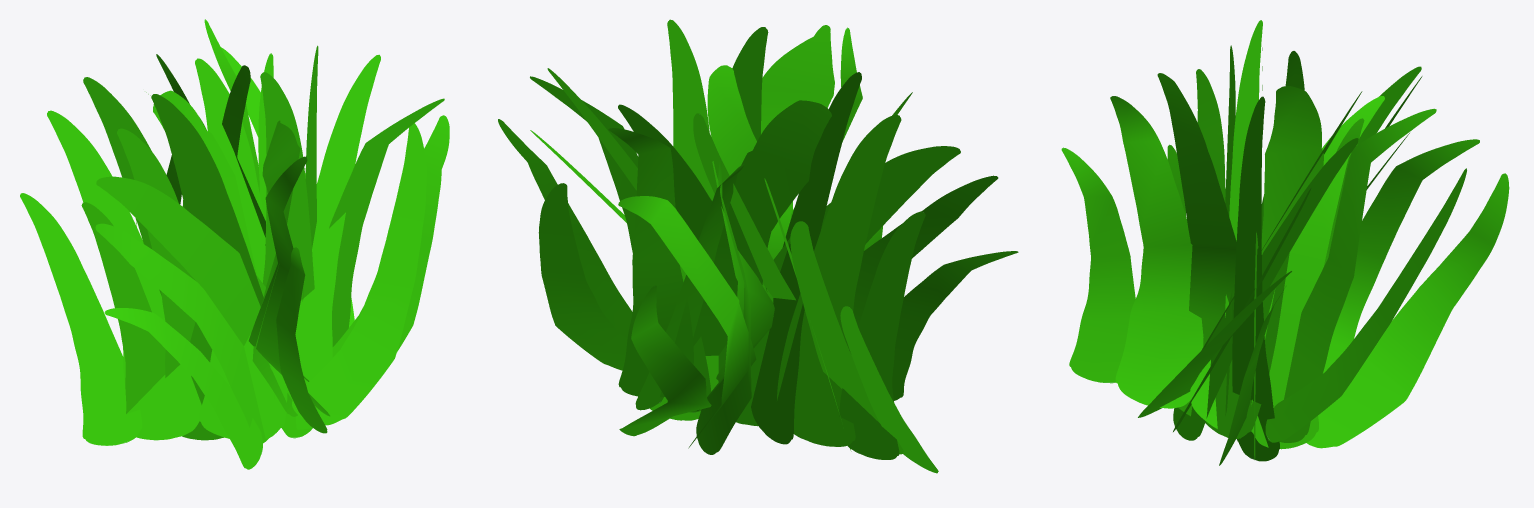
File: grass.fbx
3 views of the same model, side by side, from view 1: azimuth 30°, elevation 25°; view 2: azimuth 150°, elevation 25°; view 3: azimuth 270°, elevation 25° (orthographic). The views are drawn at different scales.
Visible parts, largest first — view 1: pPlane12; view 2: pPlane12; view 3: pPlane12.
Part boxes in pixels (<box>): pPlane12: <box>20,19,449,469</box>; pPlane12: <box>498,19,1018,473</box>; pPlane12: <box>1061,20,1509,465</box>.
Bounding box in the file's own units: 33.68 × 29.7 × 31.18.
